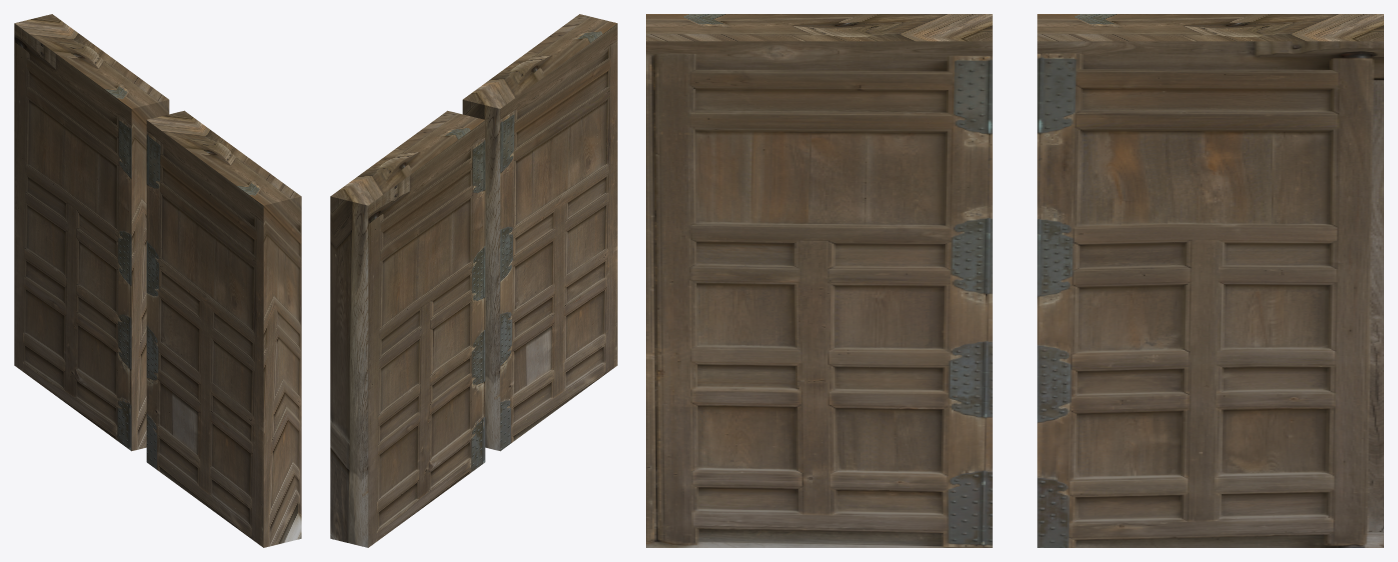
File: door 1.fbx
The picture shows the model from 3 angles, left to right: view 1: azimuth 30°, elevation 25°; view 2: azimuth 150°, elevation 25°; view 3: azimuth 270°, elevation 25°; orthographic projection. The views are drawn at different scales.
Parts seen in each view (by area): view 1: Cube.001, Cube; view 2: Cube, Cube.001; view 3: Cube.001, Cube.
Part boxes in pixels (x1=…): Cube.001: x1=146, y1=110, x2=301, y2=547; Cube: x1=14, y1=14, x2=169, y2=451; Cube: x1=330, y1=110, x2=485, y2=547; Cube.001: x1=462, y1=14, x2=617, y2=451; Cube.001: x1=646, y1=14, x2=992, y2=547; Cube: x1=1037, y1=14, x2=1383, y2=547.
Bounding box in the file's own units: 48.3 × 417 × 551.
